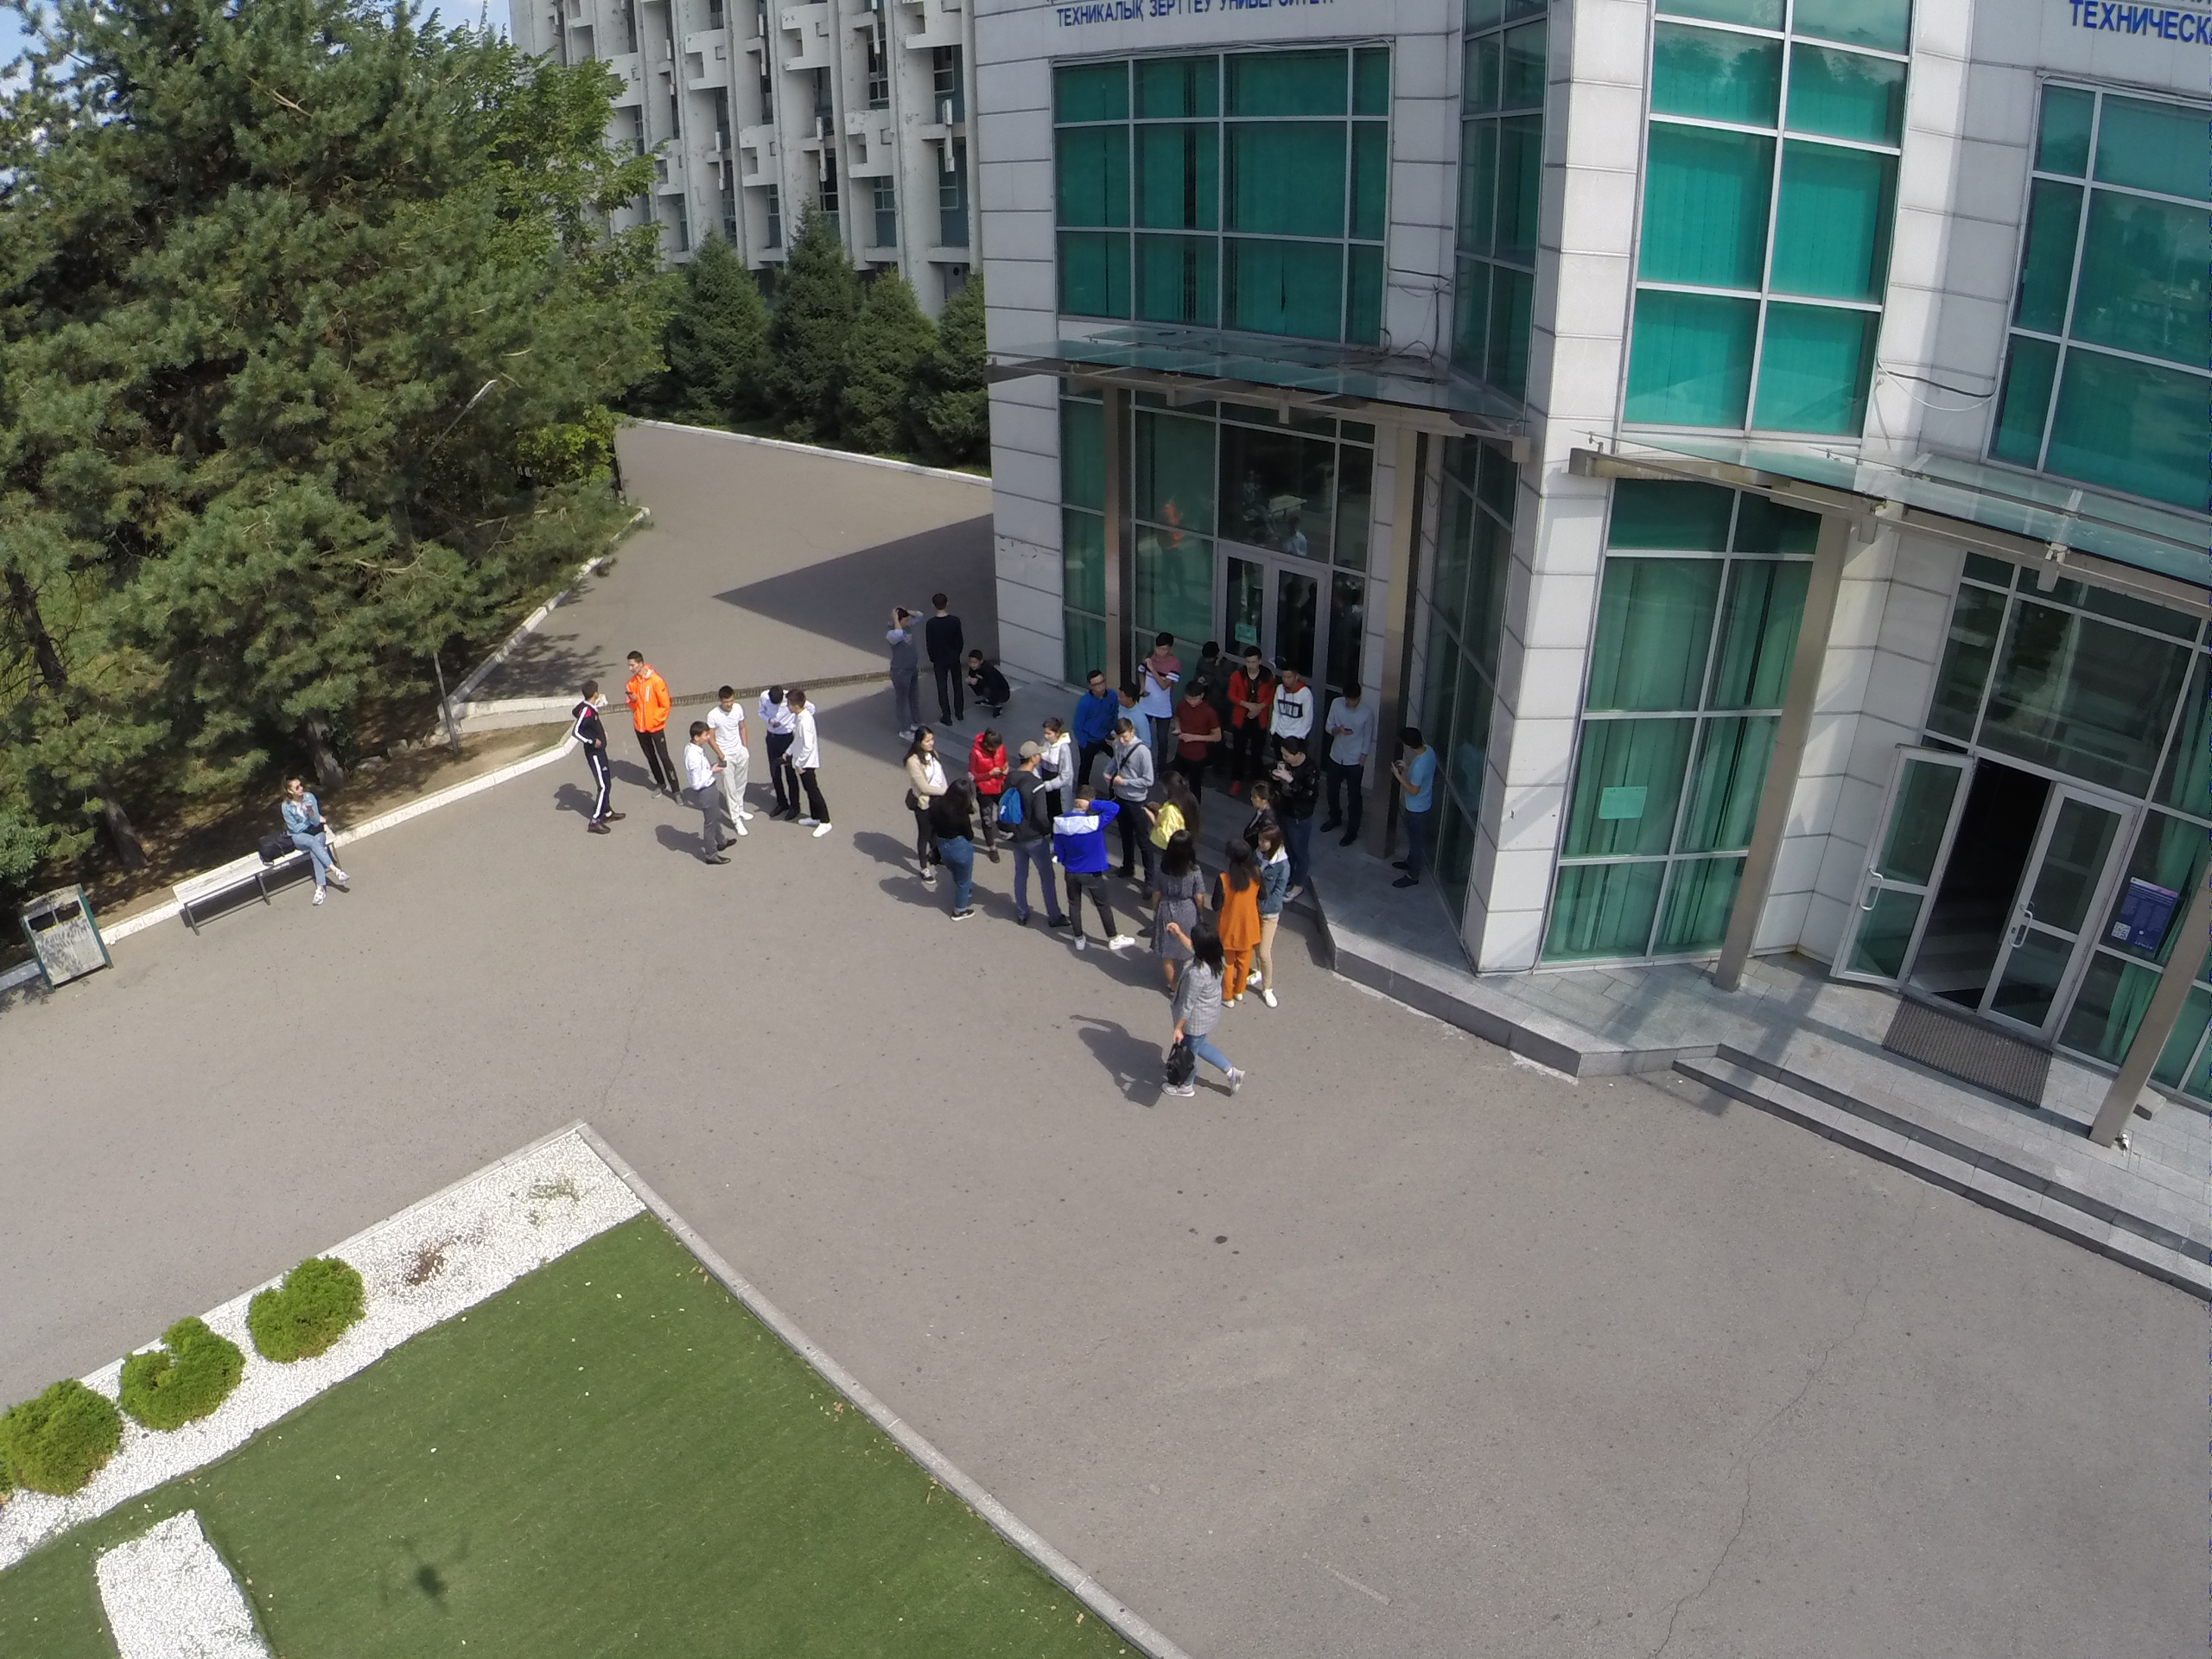person: (1166, 922, 1247, 1114), (1052, 785, 1135, 962), (995, 735, 1064, 938), (1136, 823, 1206, 991), (1101, 716, 1159, 903), (280, 772, 355, 914), (1213, 837, 1270, 1016), (624, 637, 680, 810), (571, 672, 626, 845), (925, 766, 979, 933), (1384, 723, 1437, 897), (894, 718, 944, 893), (786, 685, 836, 854), (678, 713, 730, 871), (1159, 823, 1209, 985), (1253, 832, 1298, 1009), (1326, 676, 1371, 849), (878, 600, 931, 741), (715, 674, 755, 849), (1282, 734, 1321, 898), (920, 584, 967, 723), (1226, 644, 1268, 790), (755, 675, 792, 831), (1067, 667, 1118, 779), (967, 725, 1006, 859), (1173, 677, 1221, 775), (1146, 769, 1200, 845), (1267, 665, 1319, 734), (961, 639, 1011, 713), (1034, 714, 1072, 802), (1139, 631, 1182, 699), (1192, 641, 1228, 699), (1248, 777, 1279, 834), (1114, 677, 1142, 735)
